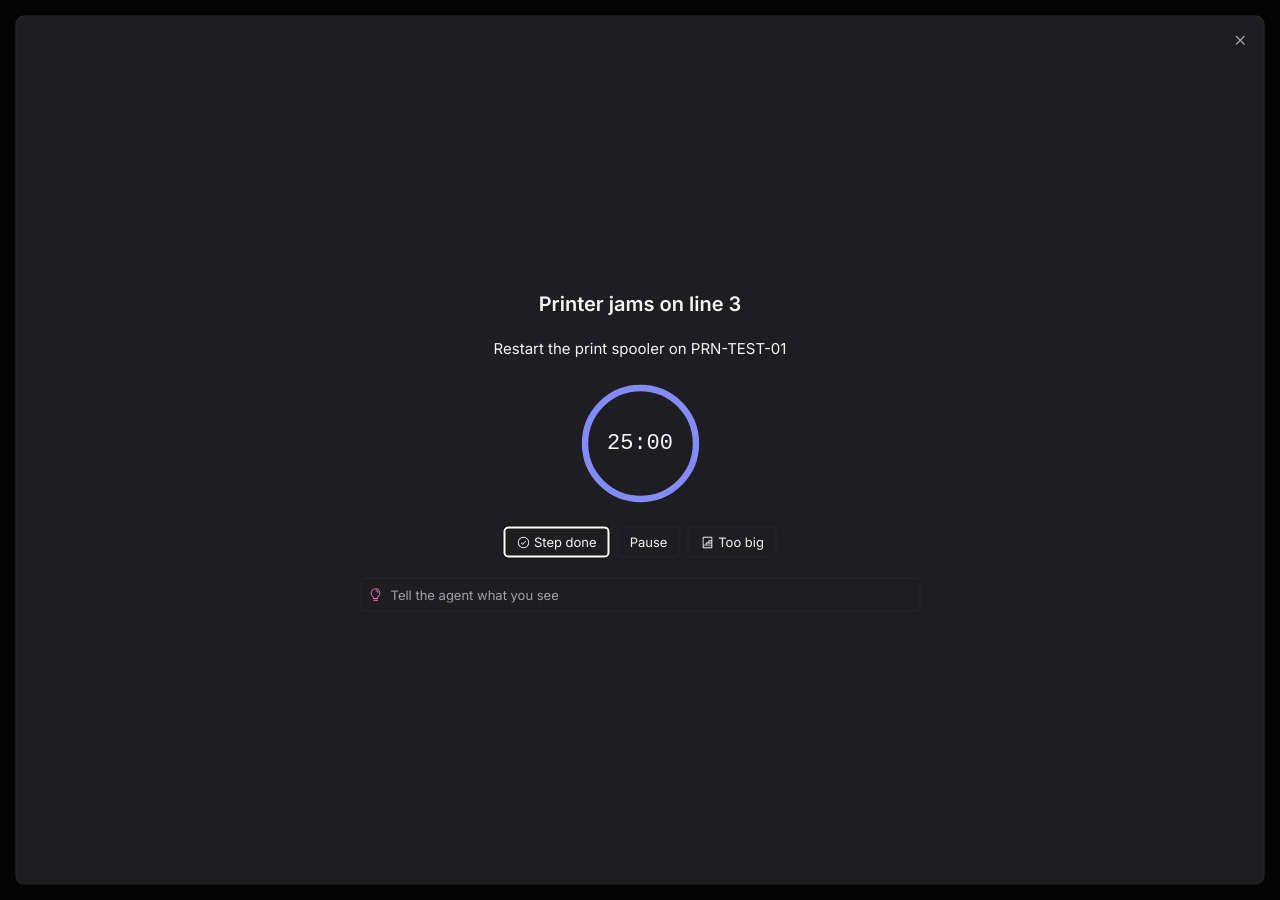
Scenario: FocusSession › test tell the agent sends the capture with the item path
Step 1. Type "saw E-12" into the field labelled "Tell the agent what you see" → point(651, 595), box [390,578,911,611]
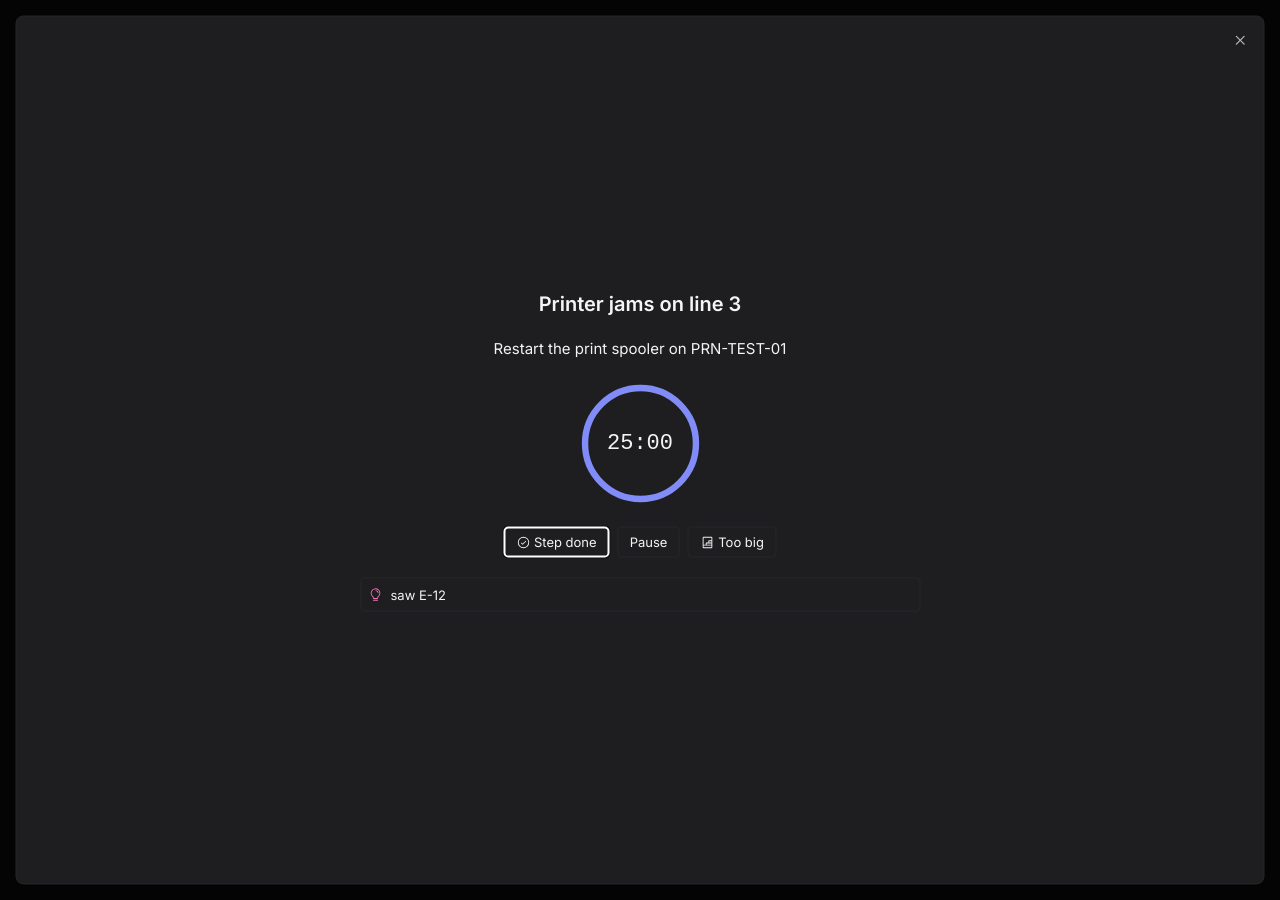
Step 2. Press Enter in the field named "Tell the agent what you see", box [390,578,911,611]
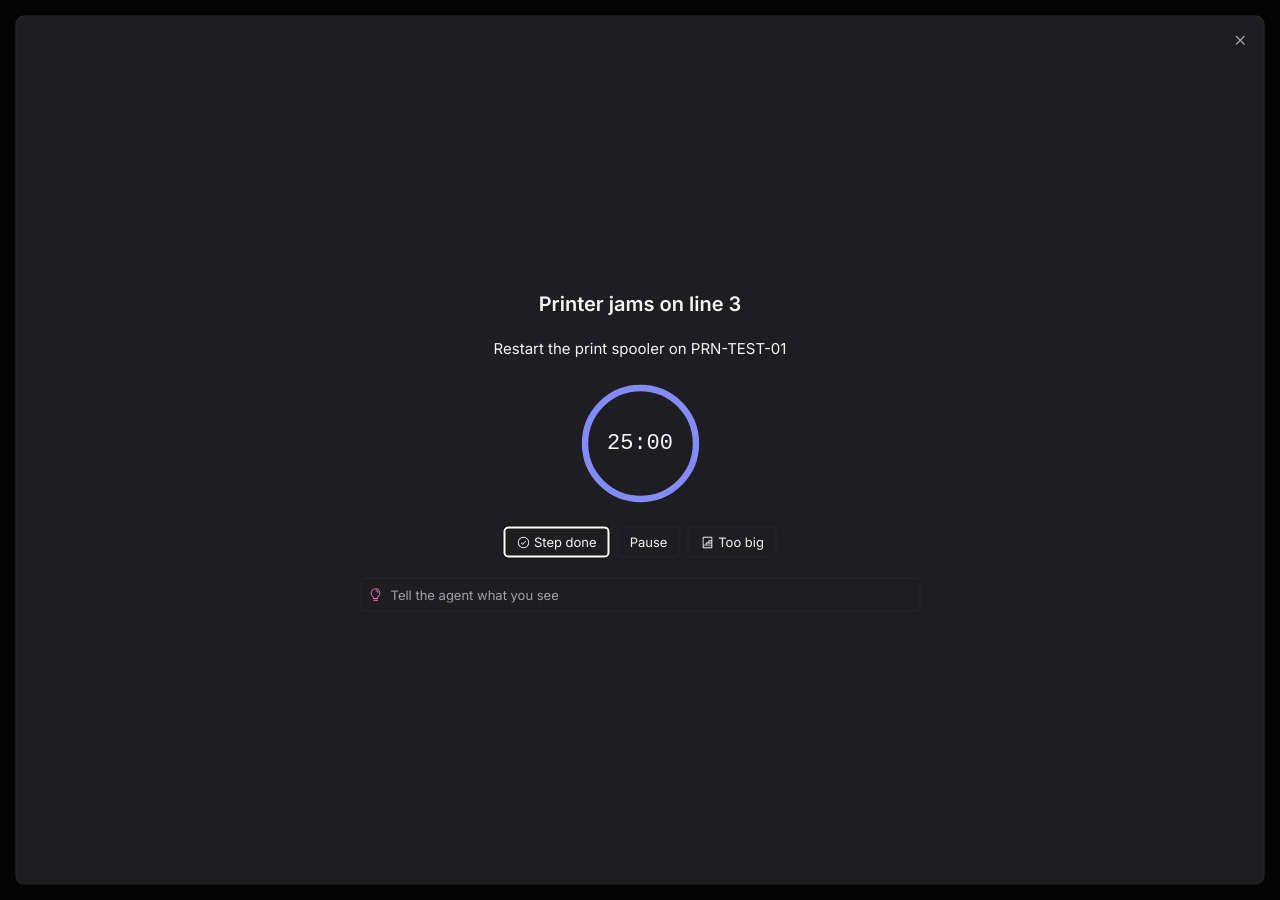
Result: the field labelled "Tell the agent what you see" is empty at [390,578,911,611]
